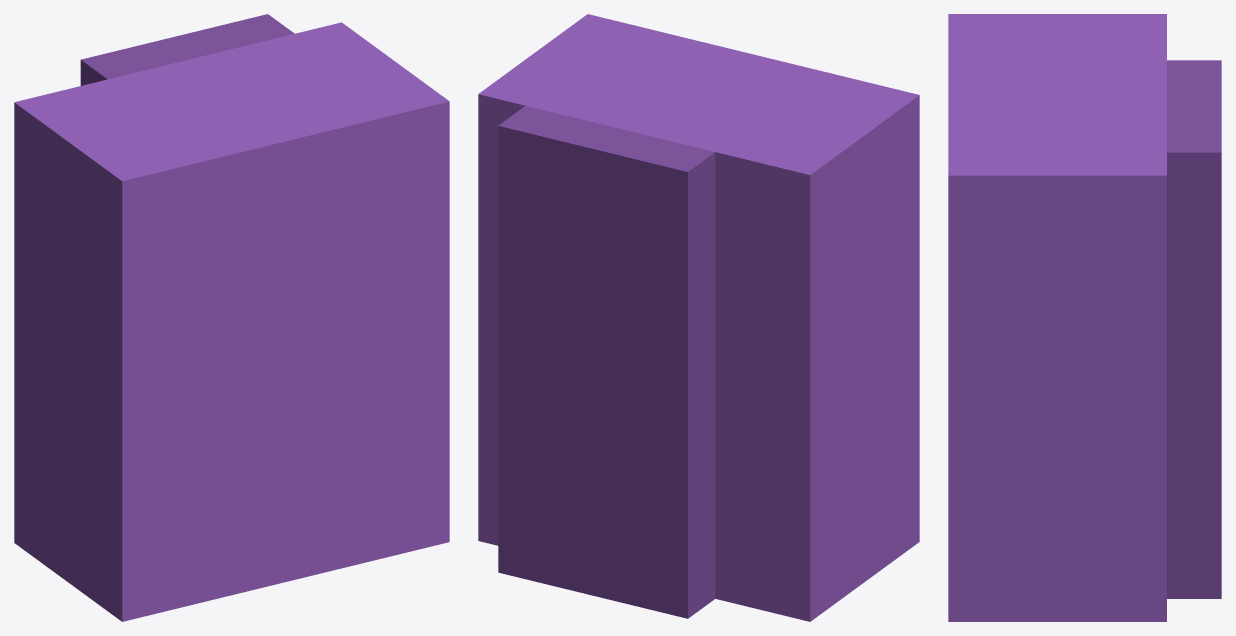
Rendered from legendario_pechera_no_muerto_01.glb.
3 renders of one model, left to right at view 1: azimuth 30°, elevation 25°; view 2: azimuth 150°, elevation 25°; view 3: azimuth 270°, elevation 25°, orthographic.
Visible parts, largest first — view 1: legendario_pechera_no_muerto; view 2: legendario_pechera_no_muerto; view 3: legendario_pechera_no_muerto.
Boxes of the visible parts, x1,y1,x2,y2 form: legendario_pechera_no_muerto: (14,14,449,621); legendario_pechera_no_muerto: (478,14,919,621); legendario_pechera_no_muerto: (948,14,1221,621).
Bounding box in the file's own units: 0.5833 × 0.75 × 0.4167.
